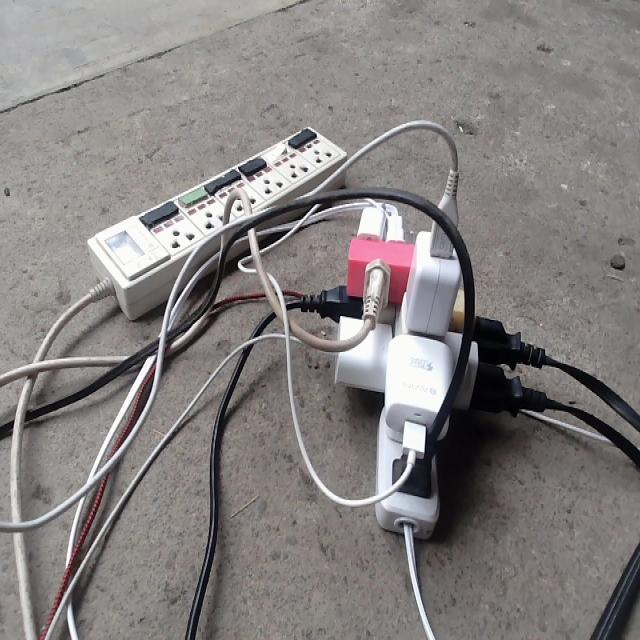-: (325, 194, 515, 530)
